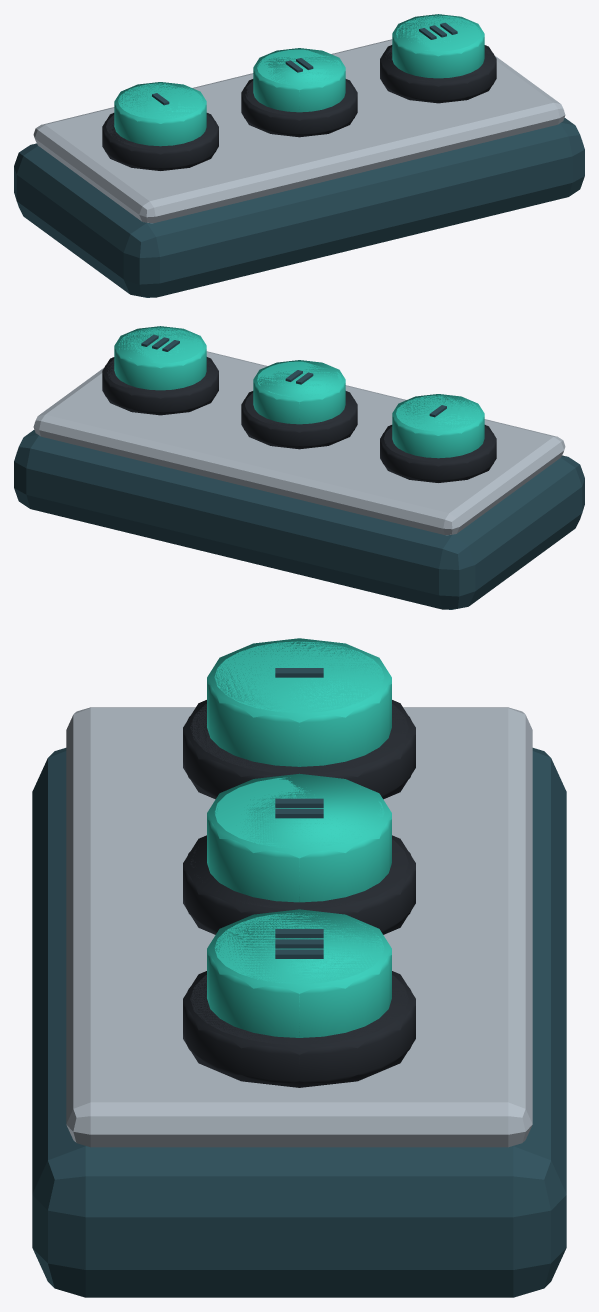
File: panel-action-three.glb
3 views of the same model, one above another, from view 1: azimuth 30°, elevation 25°; view 2: azimuth 150°, elevation 25°; view 3: azimuth 270°, elevation 25° (orthographic). The views are drawn at different scales.
Parts seen in each view (by area): view 1: panel_shell, panel_face, cap1, cap3, cap2, socket2, socket1, socket3, cap2.001, cap3.001, socket3.001, cap1.001 (+2 smaller); view 2: panel_shell, panel_face, cap1, cap3, cap2, socket1, socket3, socket2, cap2.001, cap1.001, cap3.001, socket3.001 (+2 smaller); view 3: panel_face, panel_shell, cap1, cap3, cap2, socket3, cap3.001, cap2.001, socket1, cap1.001, socket2, socket3.001 (+2 smaller).
Part boxes in pixels (x1,y1,x2,y2): panel_shell: (14,118,584,297); panel_face: (33,39,565,223); cap1: (114,83,206,146); cap3: (392,15,484,78); cap2: (253,49,345,112); socket2: (241,81,357,135); socket1: (102,115,218,169); socket3: (380,47,496,101); cap2.001: (253,48,345,91); cap3.001: (392,14,484,56); socket3.001: (380,45,496,103); cap1.001: (114,82,206,123); panel_shell: (14,430,584,609); panel_face: (33,351,565,535); cap1: (392,395,484,458); cap3: (114,327,206,390); cap2: (253,361,345,424); socket1: (380,427,496,481); socket3: (102,359,218,413); socket2: (241,393,357,447); cap2.001: (253,360,345,403); cap1.001: (392,394,484,435); cap3.001: (114,326,206,368); socket3.001: (102,357,218,415); panel_face: (66,707,532,1147); panel_shell: (32,748,566,1297); cap1: (207,641,391,766); cap3: (207,912,391,1037); cap2: (207,777,391,902); socket3: (183,975,415,1084); cap3.001: (207,909,391,1032); cap2.001: (207,773,391,901); socket1: (183,704,415,798); cap1.001: (207,638,391,726); socket2: (183,839,415,933); socket3.001: (183,971,415,1087).
Size of the model in its own units: 0.218 by 0.0655 by 0.11.
